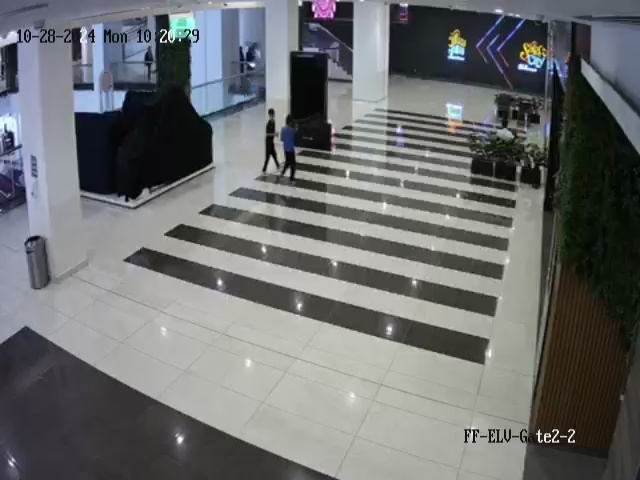female: (234, 41, 248, 76)
male: (277, 114, 298, 182), (262, 108, 280, 174), (142, 44, 156, 85)
